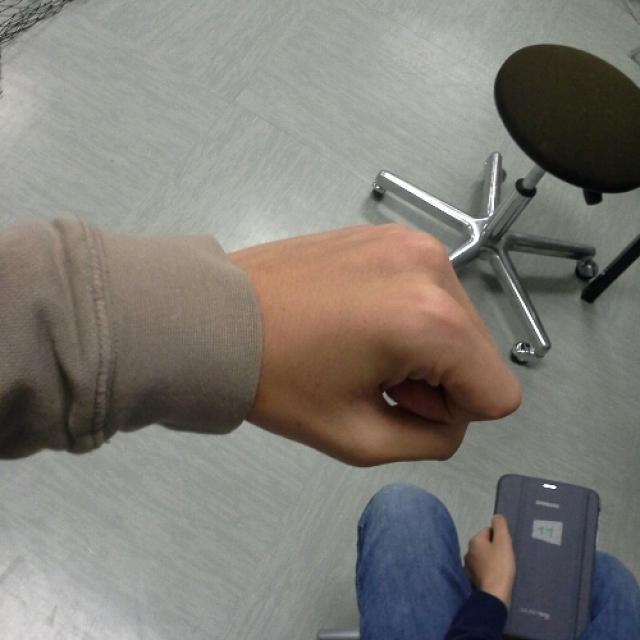fist: (278, 222, 522, 467)
